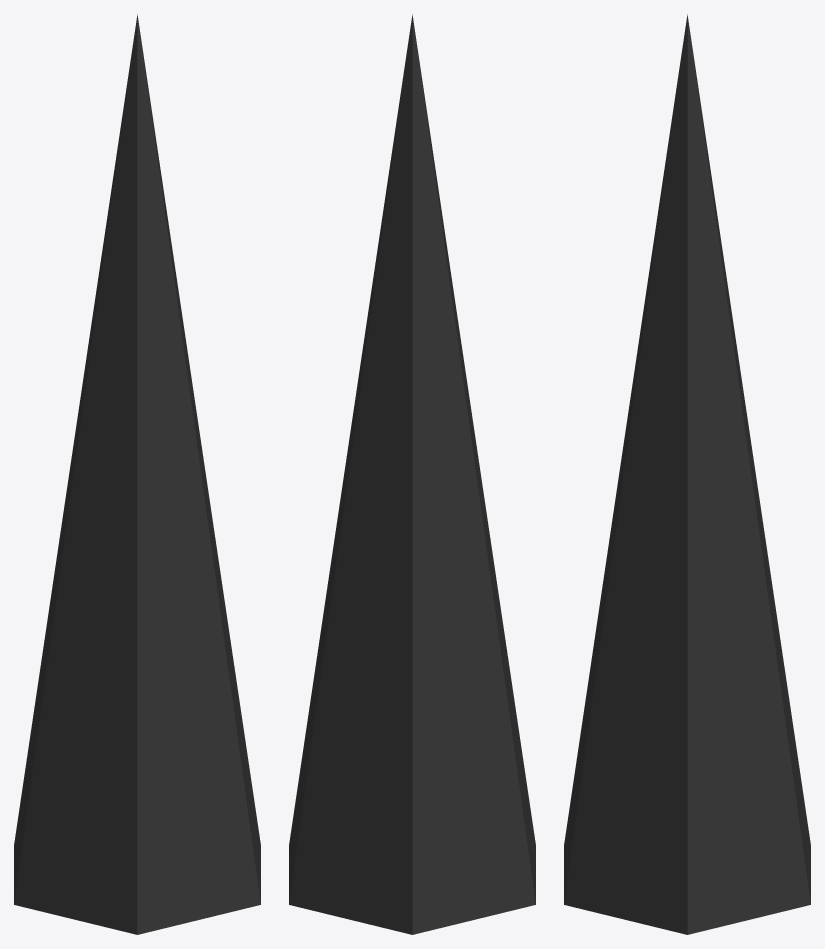
Rendered from Stal_1A.fbx.
The picture shows the model from 3 angles, left to right: view 1: azimuth 30°, elevation 25°; view 2: azimuth 150°, elevation 25°; view 3: azimuth 270°, elevation 25°; orthographic projection.
Parts seen in each view (by area): view 1: pCone39; view 2: pCone39; view 3: pCone39.
Part boxes in pixels (left/top/right/bottom): pCone39: left=14, top=14, right=260, bottom=934; pCone39: left=289, top=14, right=535, bottom=934; pCone39: left=564, top=14, right=810, bottom=934.
Size of the model in its own units: 0.3 by 1 by 0.2598.
